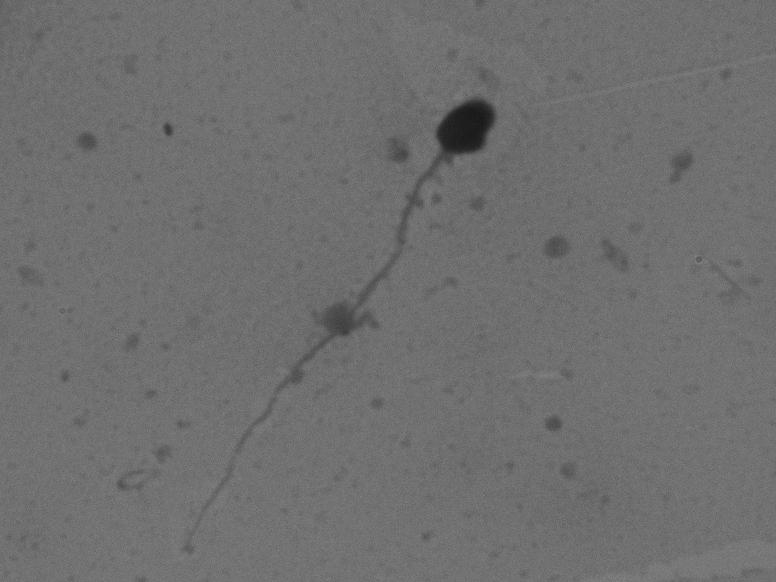Abnormal: (119, 79, 537, 560)
